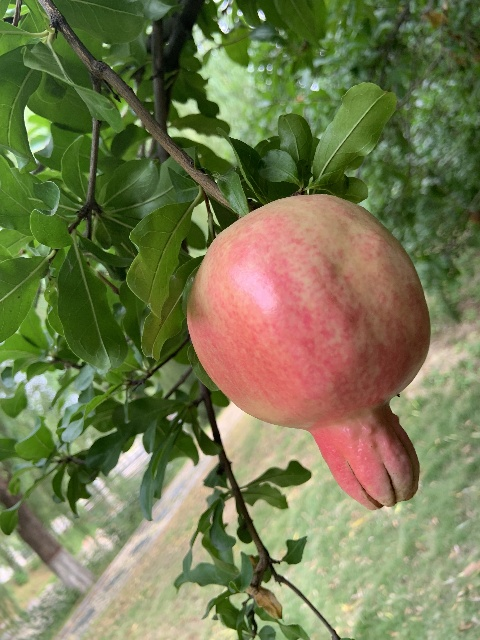ripe: (185, 195, 430, 509)
